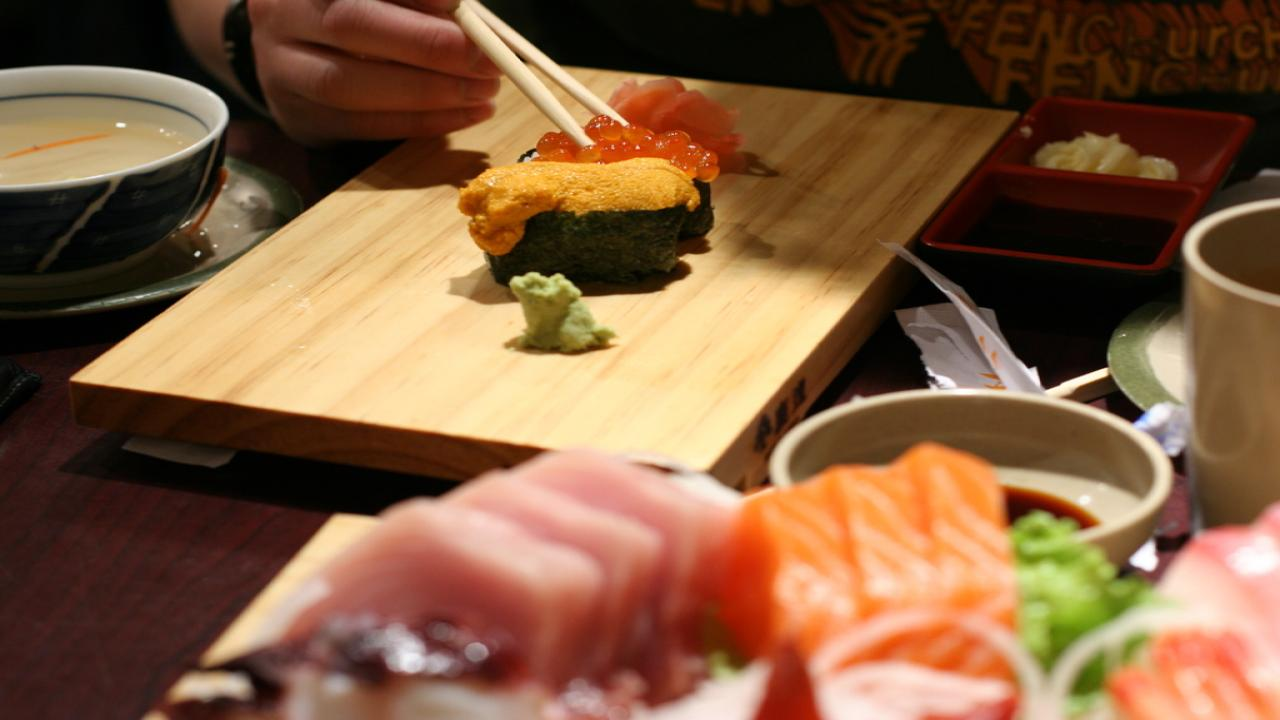chopstick: (456, 0, 629, 152)
